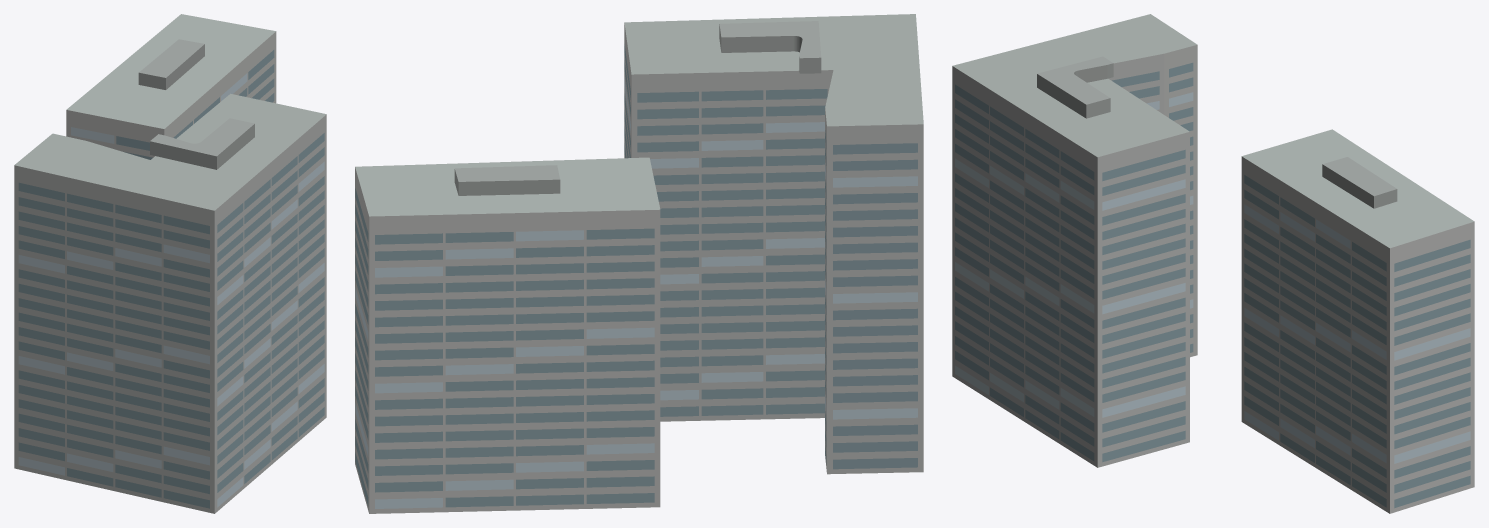
The model's file is apt-a15205001.glb.
3 renders of one model, left to right at view 1: azimuth 30°, elevation 25°; view 2: azimuth 150°, elevation 25°; view 3: azimuth 270°, elevation 25°, orthographic. The views are drawn at different scales.
Visible parts, largest first — view 1: apt-a15205001; view 2: apt-a15205001; view 3: apt-a15205001.
Boxes of the visible parts, x1,y1,x2,y2 form: apt-a15205001: (14, 14, 326, 513); apt-a15205001: (355, 14, 923, 513); apt-a15205001: (952, 14, 1474, 513).
Size of the model in its own units: 70.12 by 56 by 81.73.
